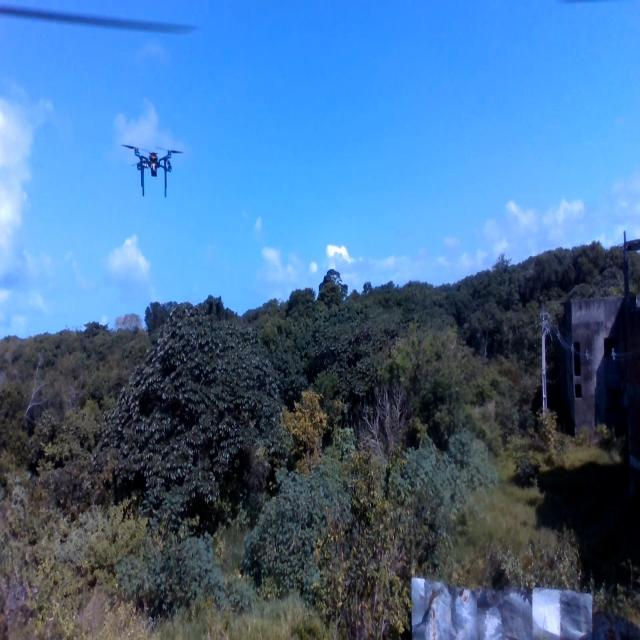-uav-: (118, 124, 186, 215)
